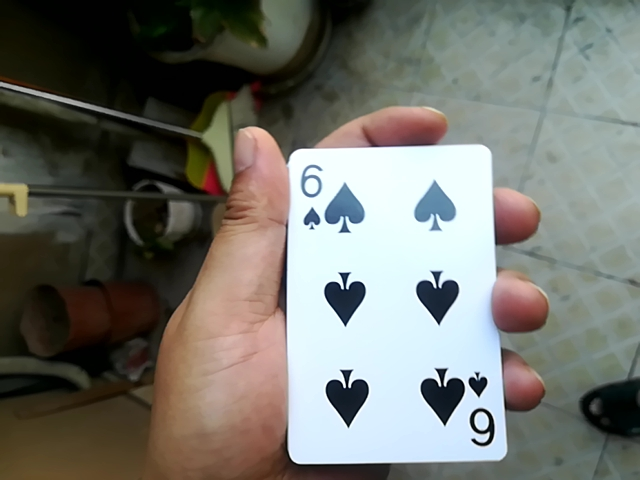ht 6: (280, 139, 502, 480)
